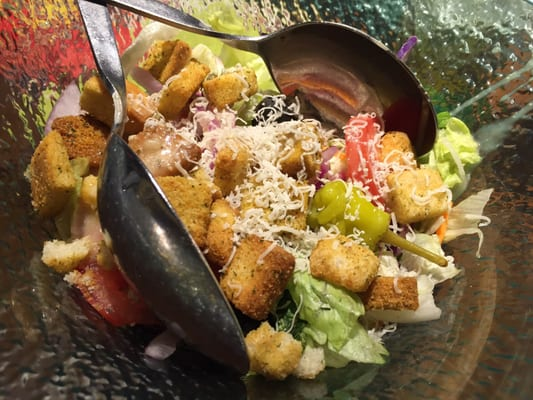salad: (78, 1, 251, 372), (80, 0, 441, 164)
